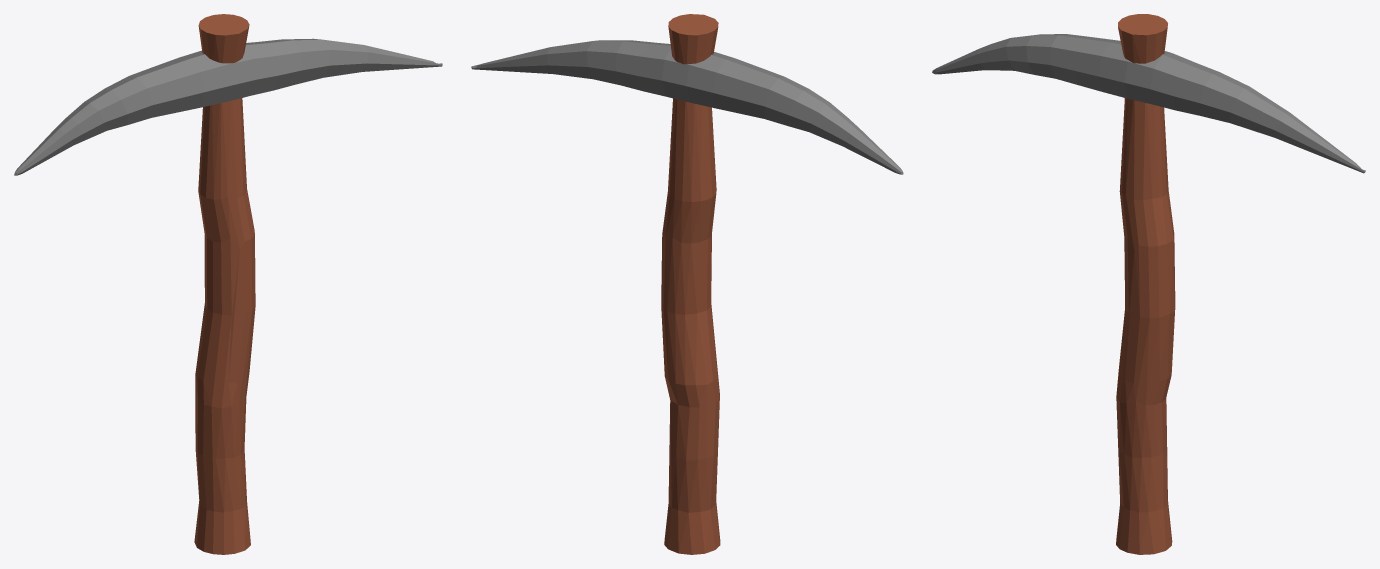
File: pickaxeJoined.fbx
The picture shows the model from 3 angles, left to right: view 1: azimuth 30°, elevation 25°; view 2: azimuth 150°, elevation 25°; view 3: azimuth 330°, elevation 25°; orthographic projection.
Parts seen in each view (by area): view 1: Pickaxe; view 2: Pickaxe; view 3: Pickaxe.
Boxes of the visible parts, x1=… form: Pickaxe: x1=14, y1=14, x2=442, y2=554; Pickaxe: x1=471, y1=14, x2=903, y2=554; Pickaxe: x1=932, y1=14, x2=1365, y2=554.
Size of the model in its own units: 43.79 by 50.42 by 5.03.
